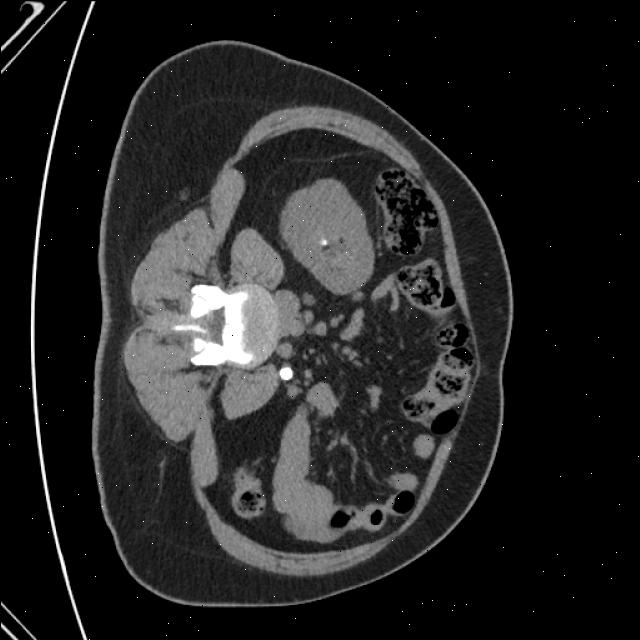kidneystone: (318, 239, 328, 246)
